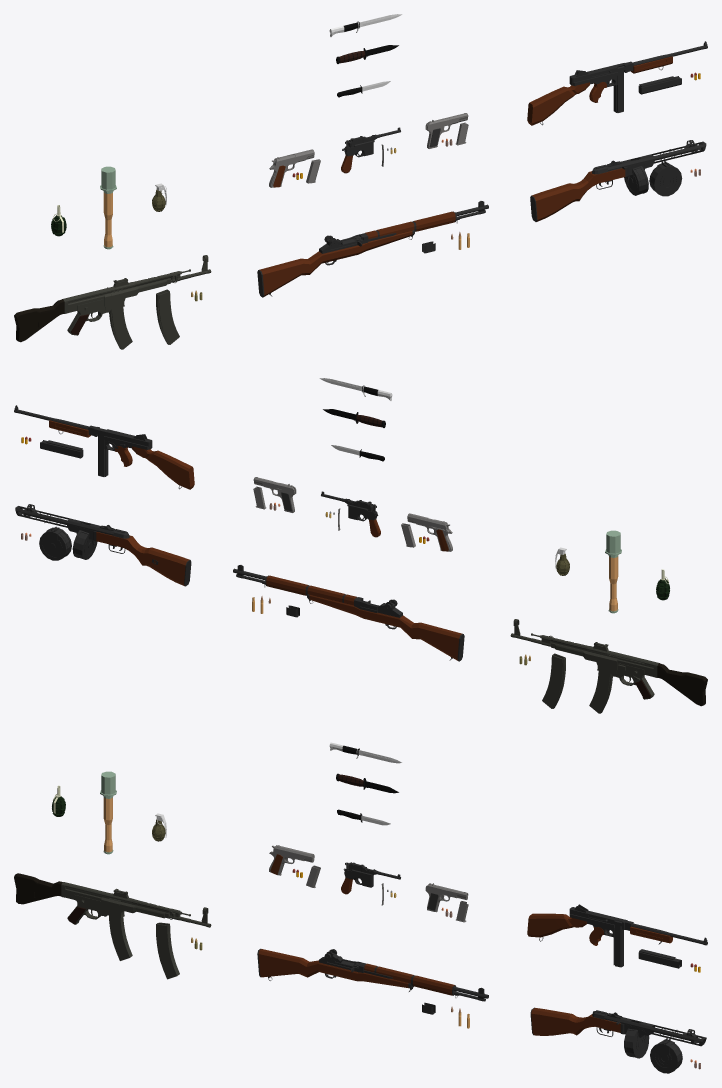
3 views of the same model, one above another, from view 1: azimuth 30°, elevation 25°; view 2: azimuth 150°, elevation 25°; view 3: azimuth 330°, elevation 25° (orthographic).
Visible parts, largest first — view 1: STG 44_28, M1 Garand_8, PPSH 41_23, Thompson M1_33, German Stick Grenade_3, PPSH 41 Magazine_27, Mauser C96_18, STG 44 Maganize_32, M1911_13, TT Pistol_38; view 2: STG 44_28, M1 Garand_8, PPSH 41_23, Thompson M1_33, German Stick Grenade_3, PPSH 41 Magazine_27, Mauser C96_18, STG 44 Maganize_32, M1911_13, TT Pistol_38; view 3: STG 44_28, M1 Garand_8, PPSH 41_23, Thompson M1_33, German Stick Grenade_3, PPSH 41 Magazine_27, STG 44 Maganize_32, Mauser C96_18, M1911_13, TT Pistol_38.
Boxes of the visible parts, x1,y1,x2,y2 form: STG 44_28: (14,255,211,349); M1 Garand_8: (257,201,488,297); PPSH 41_23: (530,140,706,221); Thompson M1_33: (527,41,707,125); German Stick Grenade_3: (100,166,116,249); PPSH 41 Magazine_27: (649,161,682,196); Mauser C96_18: (341,127,400,173); STG 44 Maganize_32: (156,289,179,344); M1911_13: (269,149,314,187); TT Pistol_38: (425,113,468,148); STG 44_28: (510,619,707,713); M1 Garand_8: (233,565,464,661); PPSH 41_23: (15,504,191,586); Thompson M1_33: (14,405,194,489); German Stick Grenade_3: (605,530,621,613); PPSH 41 Magazine_27: (39,526,71,560); Mauser C96_18: (321,491,380,537); STG 44 Maganize_32: (542,653,565,708); M1911_13: (407,513,452,551); TT Pistol_38: (253,477,296,512); STG 44_28: (14,873,211,960); M1 Garand_8: (257,948,488,1001); PPSH 41_23: (530,1007,706,1058); Thompson M1_33: (527,904,707,967); German Stick Grenade_3: (100,771,116,854); PPSH 41 Magazine_27: (650,1038,682,1073); STG 44 Maganize_32: (156,922,179,979); Mauser C96_18: (341,862,400,894); M1911_13: (269,845,314,875); TT Pistol_38: (425,883,468,912).
Bounding box in the file's own units: 3.33 × 1.27 × 0.1347.
